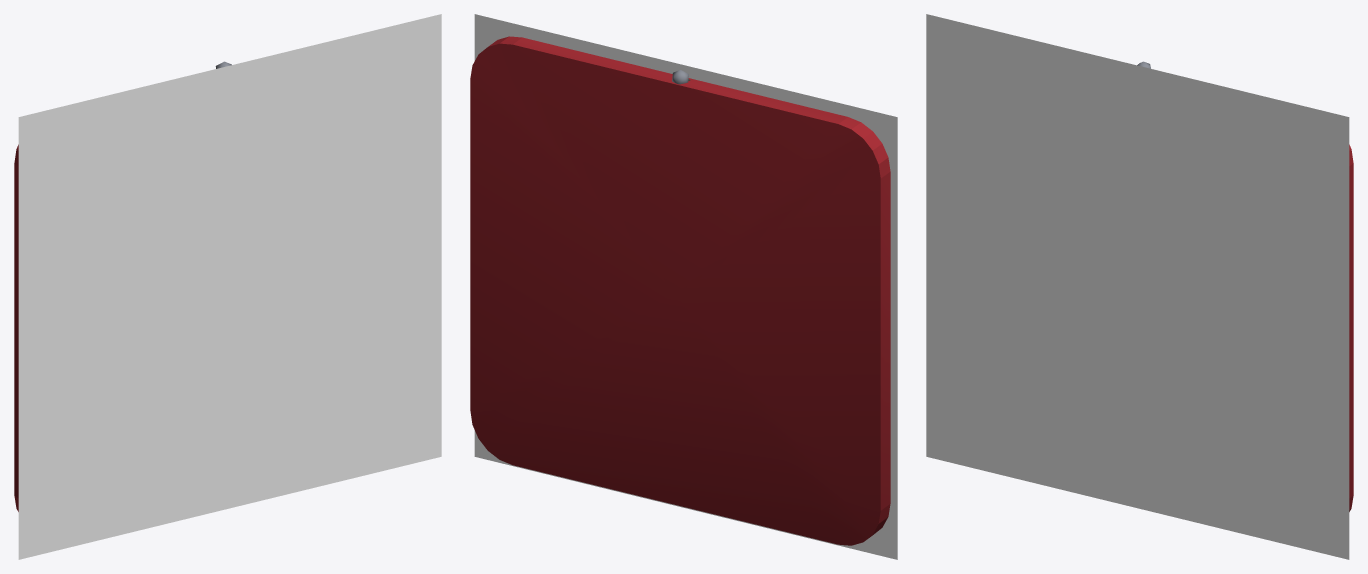
The model's file is furn_dnd_sign.glb.
3 renders of one model, left to right at view 1: azimuth 30°, elevation 25°; view 2: azimuth 150°, elevation 25°; view 3: azimuth 330°, elevation 25°, orthographic.
Visible parts, largest first — view 1: furn_dnd_sign_pic, furn_dnd_sign_main; view 2: furn_dnd_sign_main, furn_dnd_sign_pic; view 3: furn_dnd_sign_pic, furn_dnd_sign_main.
Boxes of the visible parts, left/top/right/bottom form: furn_dnd_sign_pic: left=18, top=14, right=441, bottom=559; furn_dnd_sign_main: left=14, top=144, right=18, bottom=511; furn_dnd_sign_main: left=470, top=36, right=890, bottom=545; furn_dnd_sign_pic: left=474, top=14, right=897, bottom=559; furn_dnd_sign_pic: left=926, top=14, right=1349, bottom=559; furn_dnd_sign_main: left=1349, top=144, right=1353, bottom=511.
Size of the model in its own units: 1 by 1 by 0.043.
